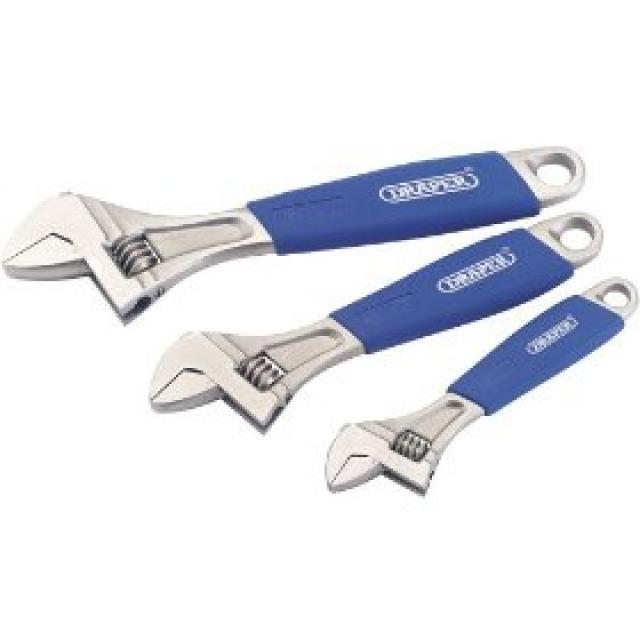wrench: (146, 213, 614, 434), (0, 132, 584, 308), (310, 272, 640, 508)
